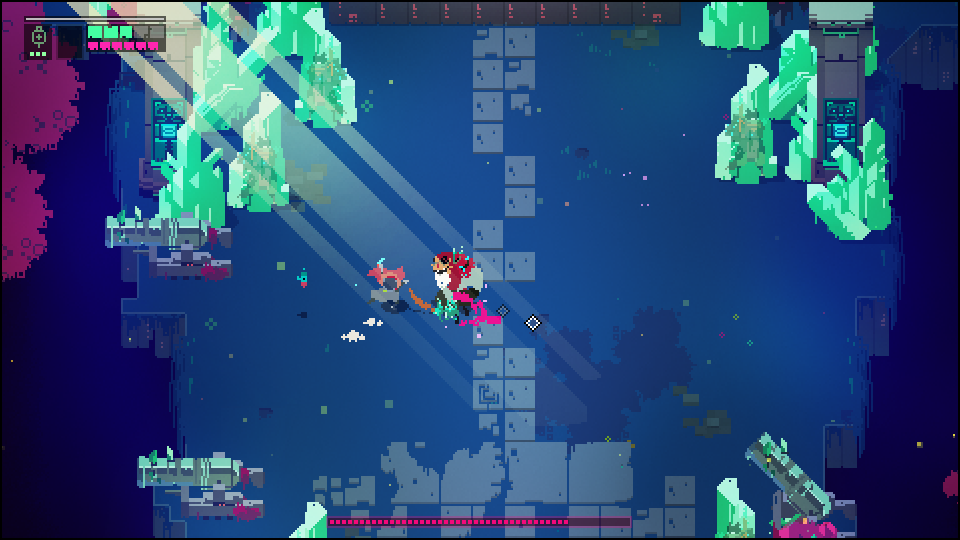hanged_man: (406, 247, 487, 323)
player: (368, 258, 410, 310)
